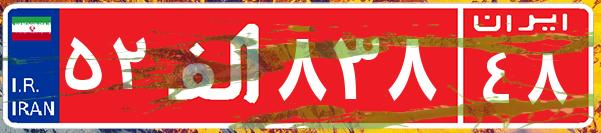2: (110, 28, 158, 105)
3: (330, 28, 385, 110)
4: (475, 38, 525, 113)
5: (57, 26, 110, 107)
8: (385, 28, 445, 110), (273, 28, 330, 110), (525, 38, 570, 115)
الف: (158, 15, 273, 115)
